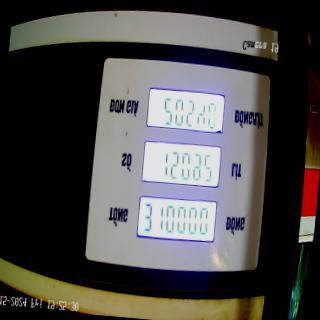screen: (134, 84, 229, 246)
